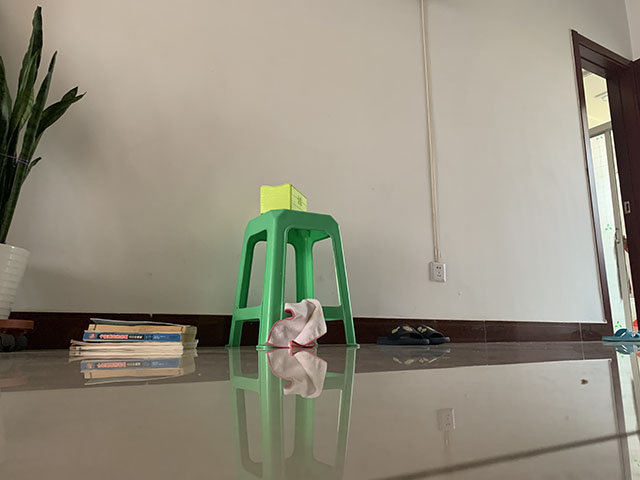book: (68, 316, 199, 353)
slippers: (371, 326, 429, 346), (601, 328, 640, 343)
stool: (225, 209, 362, 349)
